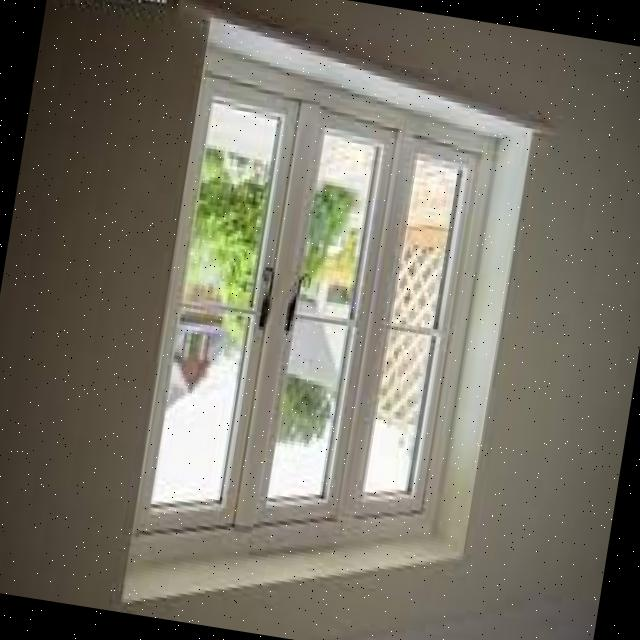Window: (120, 29, 507, 606)
